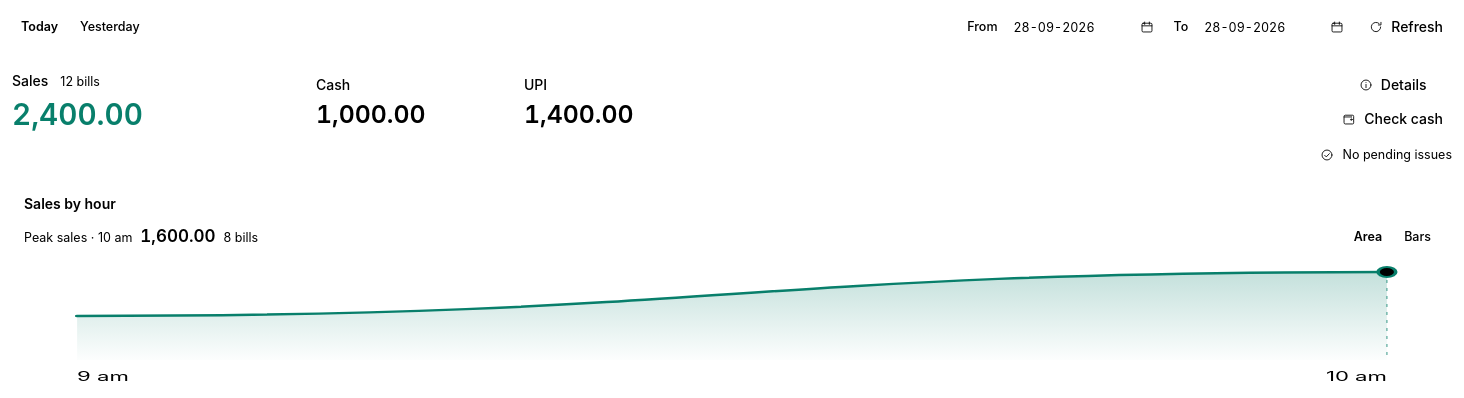
Test case: removes stale figures if a refresh fails
expect the text "2,400.00" is shown: met, box [12,96,143,132]
Click the button "Refresh".
click(1406, 27)  # box [1360,12,1452,42]
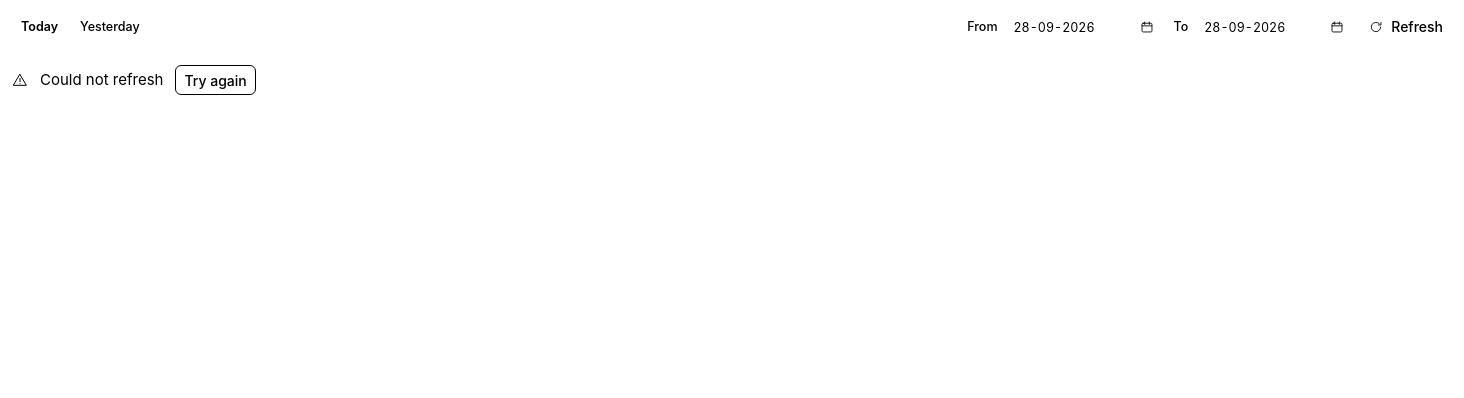
expect the message "Could not refresh Try again" is shown: met, box [12,65,256,95]
expect the text "2,400.00" is gone: met
